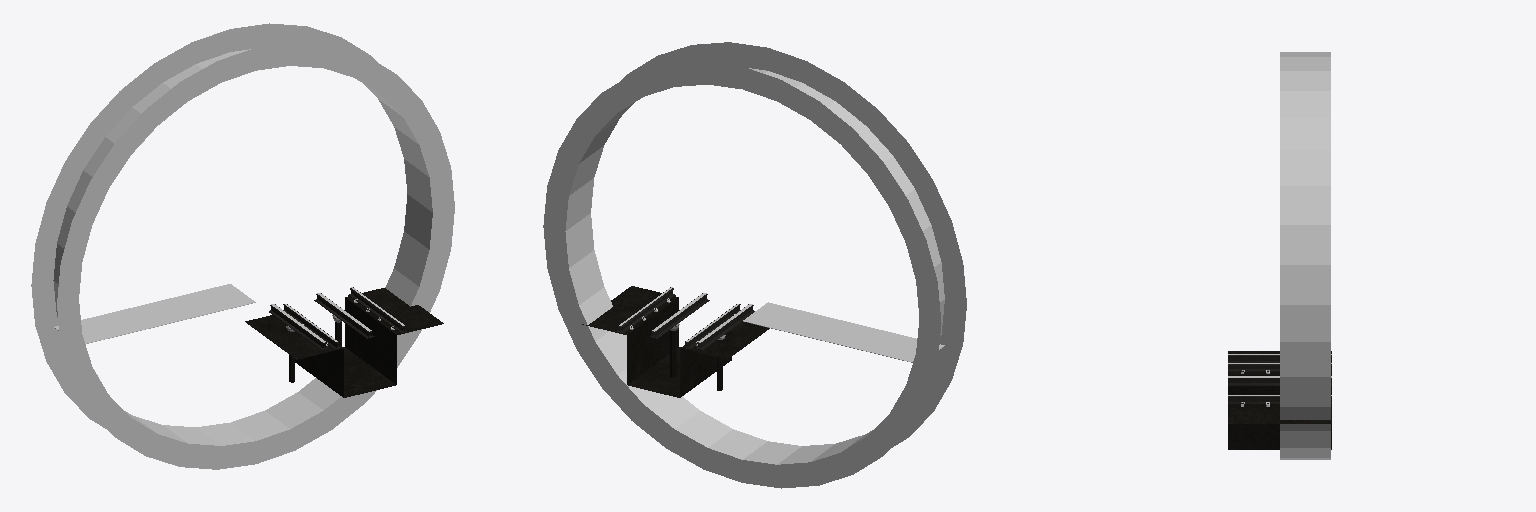
3 views of the same model, side by side, from view 1: azimuth 30°, elevation 25°; view 2: azimuth 150°, elevation 25°; view 3: azimuth 270°, elevation 25° (orthographic).
Parts seen in each view (by area): view 1: poster_ad.002, Cube.001, Plane.002, Full_LOD0_LOD0.031, Full_LOD0_LOD0.019, Full_LOD0_LOD0.022; view 2: poster_ad.002, Cube.001, Plane.002, Full_LOD0_LOD0.031, Full_LOD0_LOD0.022, Full_LOD0_LOD0.019; view 3: poster_ad.002, Cube.001, Full_LOD0_LOD0.031, Full_LOD0_LOD0.022.
Part boxes in pixels (x1,y1,x2,y2): poster_ad.002: (31,23,454,469); Cube.001: (245,288,443,397); Plane.002: (54,284,255,345); Full_LOD0_LOD0.031: (283,287,406,348); Full_LOD0_LOD0.019: (269,304,328,349); Full_LOD0_LOD0.022: (314,293,374,338); poster_ad.002: (543,42,966,488); Cube.001: (582,286,769,397); Plane.002: (743,302,944,363); Full_LOD0_LOD0.031: (617,287,740,348); Full_LOD0_LOD0.022: (649,293,709,338); Full_LOD0_LOD0.019: (695,304,754,349); poster_ad.002: (1280,52,1330,459); Cube.001: (1228,351,1331,449); Full_LOD0_LOD0.031: (1228,363,1331,403); Full_LOD0_LOD0.022: (1228,376,1331,385).
Size of the model in its own units: 9 by 9 by 2.04.
5 materials, 3 textured.